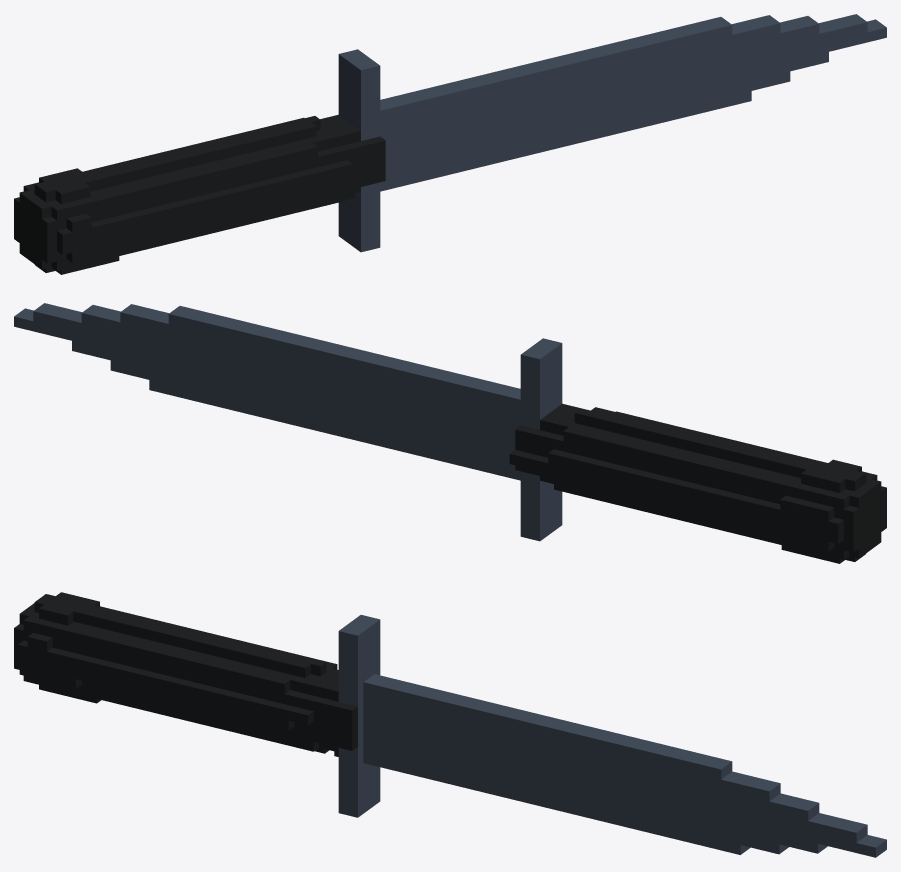
Rendered from kabar.glb.
The picture shows the model from 3 angles, top to bottom: view 1: azimuth 30°, elevation 25°; view 2: azimuth 150°, elevation 25°; view 3: azimuth 330°, elevation 25°; orthographic projection.
Parts seen in each view (by area): view 1: kabar:knife; view 2: kabar:knife; view 3: kabar:knife.
Boxes of the visible parts, x1,y1,x2,y2 form: kabar:knife: [14, 14, 886, 274]; kabar:knife: [14, 303, 886, 563]; kabar:knife: [14, 592, 886, 857].
Size of the model in its own units: 0.352 by 0.072 by 0.032.
